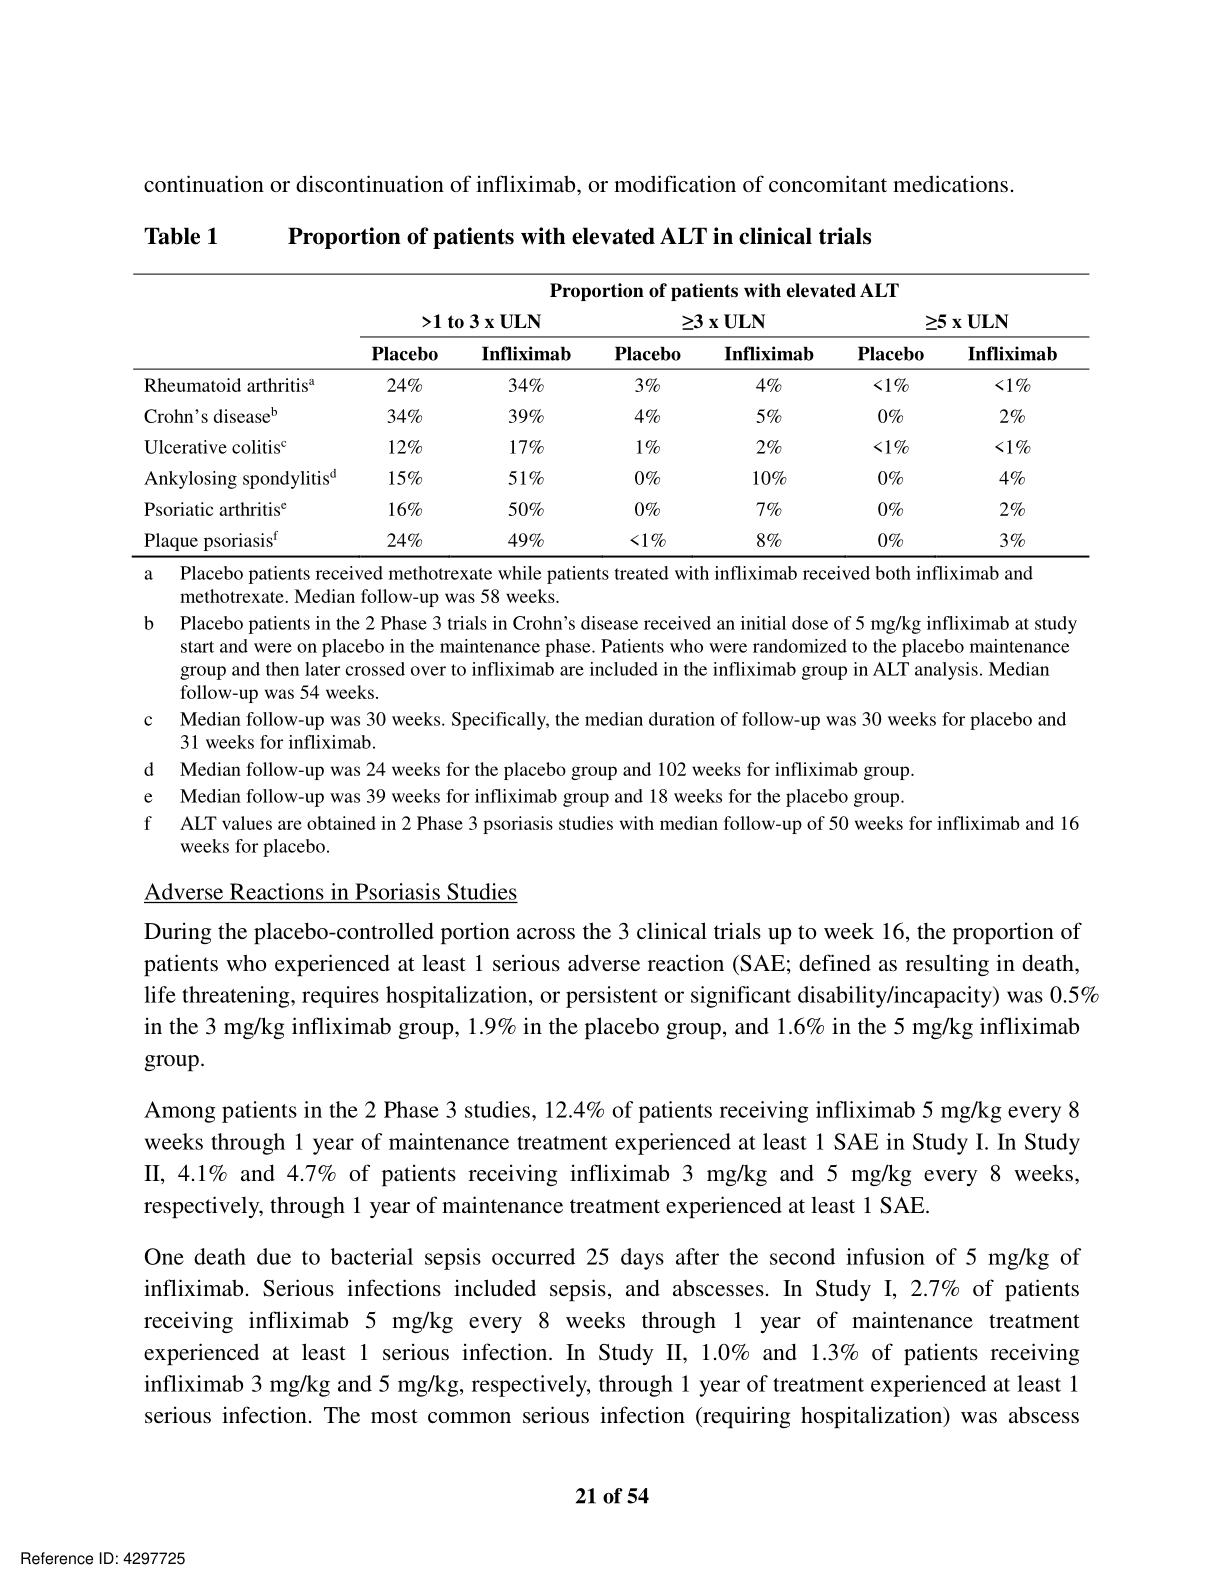partial_lined_merged_cells: (130, 273, 1090, 558)
